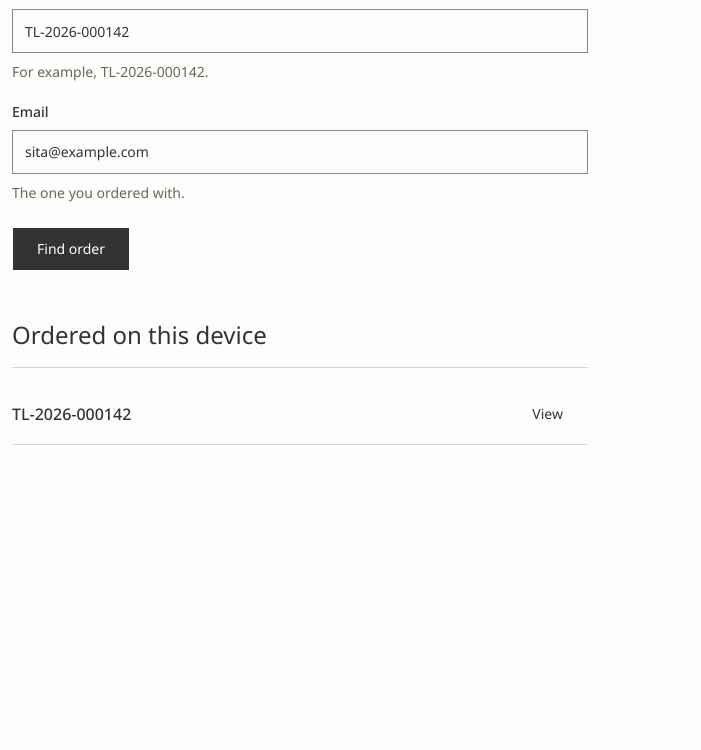
Test: LookupForm › looks up a recent order in one click
Click the button with aria-label "View order TL-2026-000142": (548, 414) [507,392,588,436]
(page scrolled)
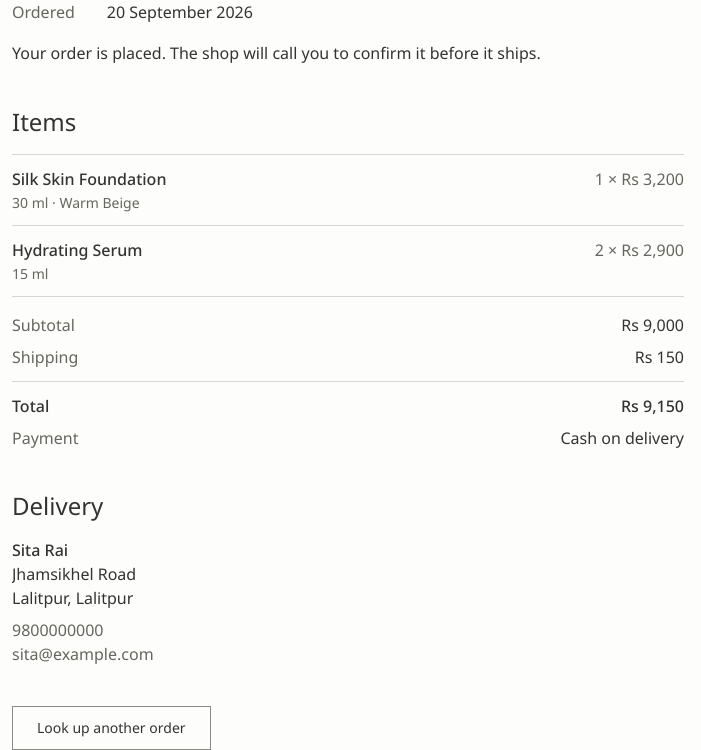
Expected: the text "sita@example.com" is shown, [12,643,154,665]
